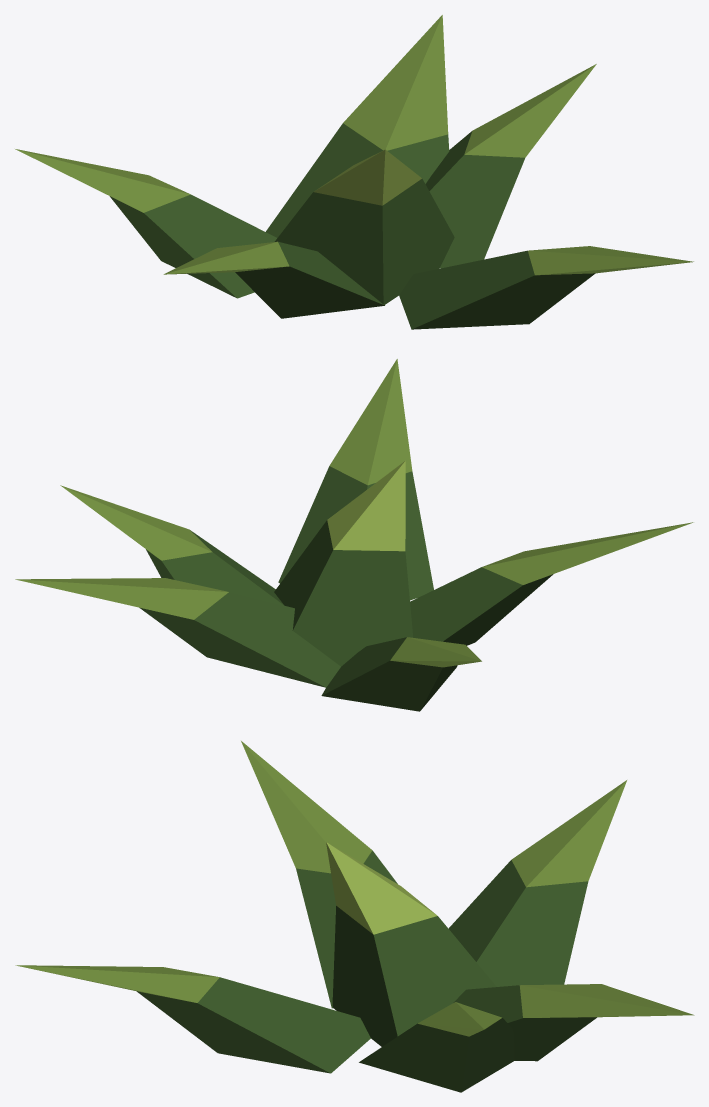
File: gf_grass_broad_d.glb
3 renders of one model, top to bottom at view 1: azimuth 30°, elevation 25°; view 2: azimuth 150°, elevation 25°; view 3: azimuth 270°, elevation 25°, orthographic. The views are drawn at different scales.
Parts seen in each view (by area): view 1: gf_grass_broad_d; view 2: gf_grass_broad_d; view 3: gf_grass_broad_d.
Part boxes in pixels (box(x1,y1,x2,y2)): gf_grass_broad_d: box(15, 15, 693, 329); gf_grass_broad_d: box(15, 359, 693, 711); gf_grass_broad_d: box(15, 741, 694, 1092).
Bounding box in the file's own units: 0.3341 × 0.092 × 0.3442.
